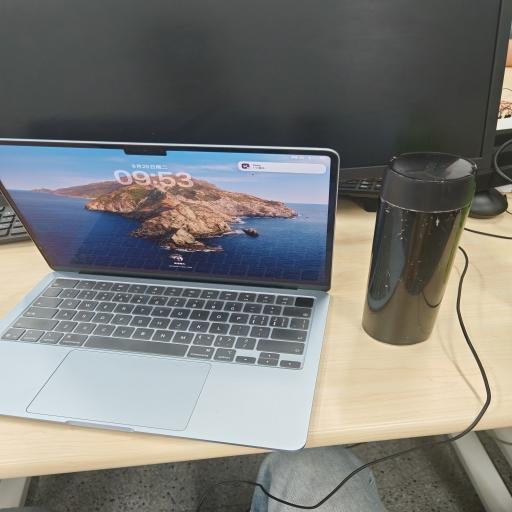laptop: (0, 140, 339, 450), (4, 290, 5, 291)
mouse: (468, 186, 509, 219)
